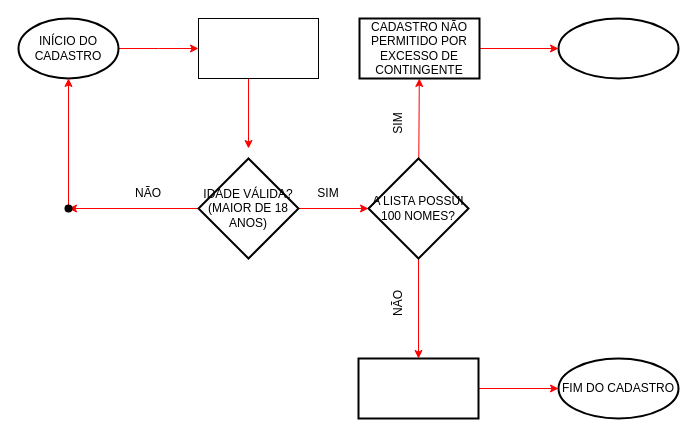
This 696x436 diagram has some shape labels left out. Each missing label, with the box of its shape:
CADASTRE-SE AQUI: (357, 357, 479, 419)
FIM: (557, 17, 679, 79)
INSERIR IDADE: (198, 18, 318, 78)
